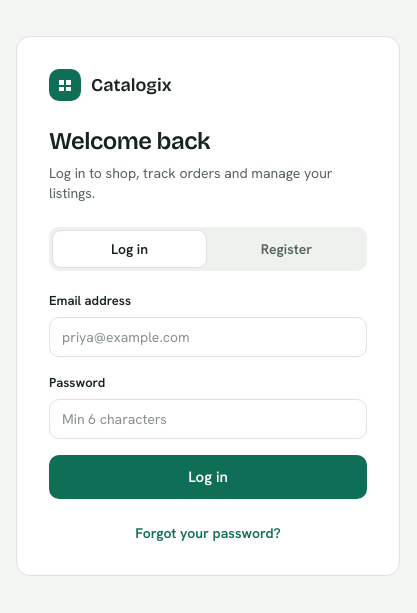
Test: Login › switches to the register tab and shows the name field
What coordinates should you click on to do the following:
click the button "Register"
I would click on:
 (286, 249)
Its box is [210,231,363,267].
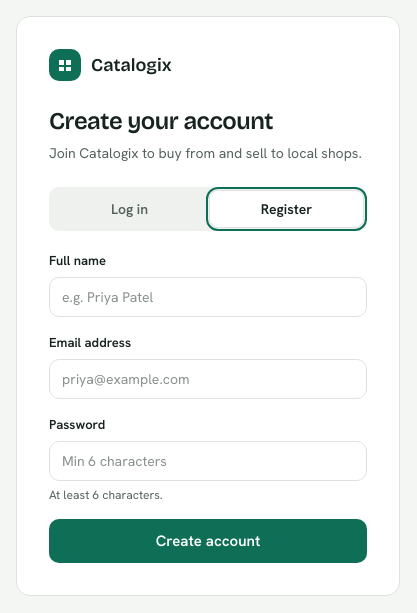
Expected: the field labelled "Full name" is shown, [49,277,367,317]
Expected: the button "Create account" is shown, [49,519,367,563]
